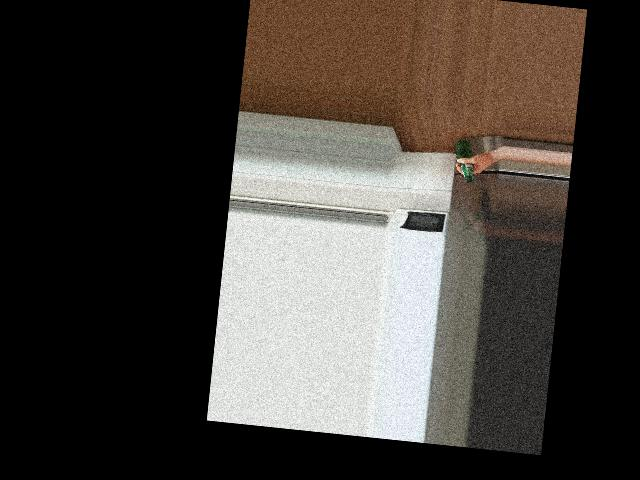beer: (452, 138, 478, 182)
